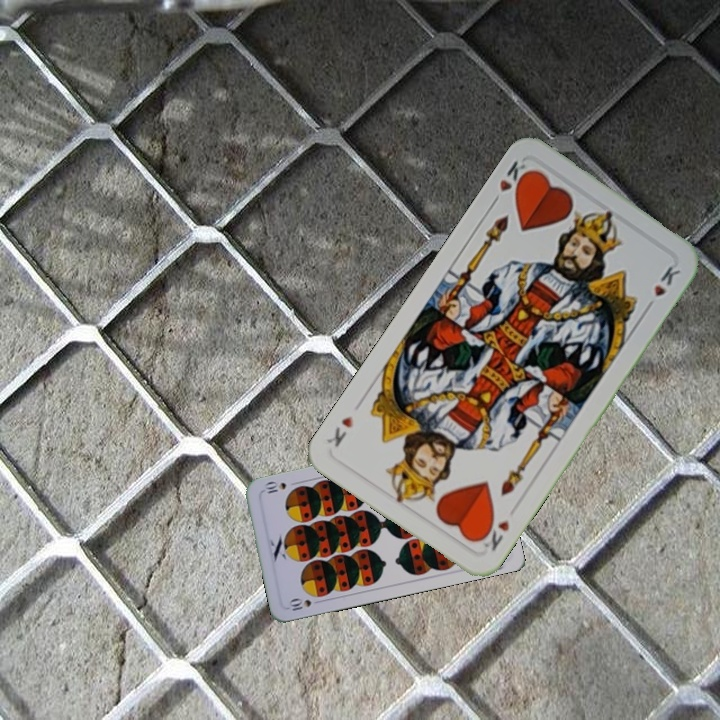HK: (495, 157, 534, 199), (475, 514, 512, 554)
S10: (285, 594, 324, 615)
